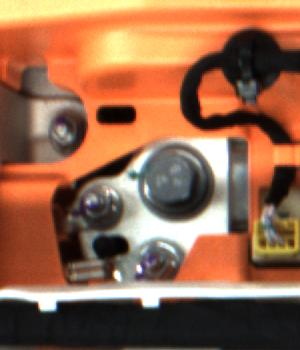nut_b: (134, 140, 215, 226)
